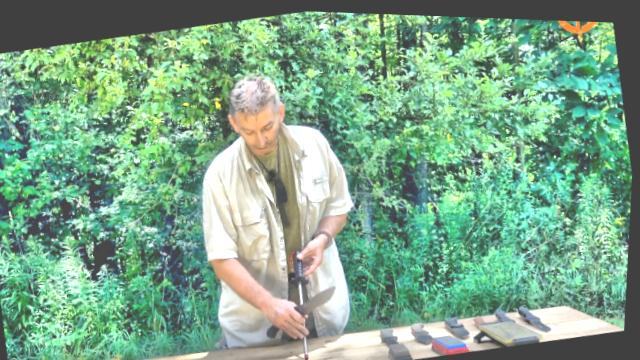knife: (260, 277, 349, 340)
